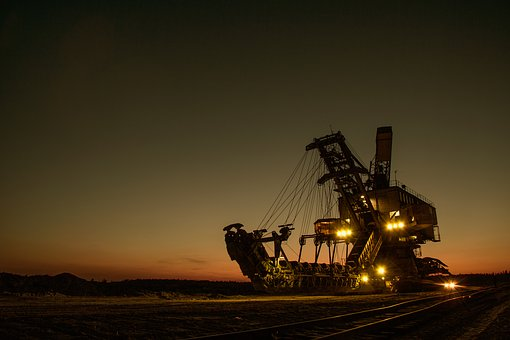excavator: (220, 123, 467, 299)
